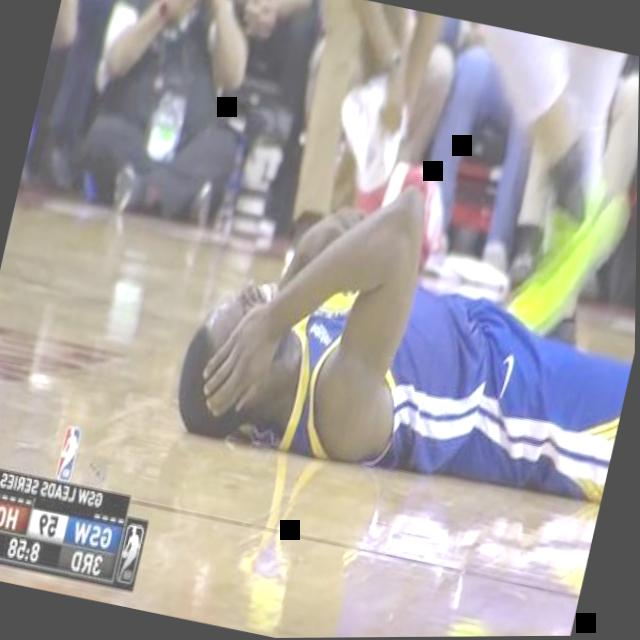Fall-Detected: (169, 131, 638, 534)
